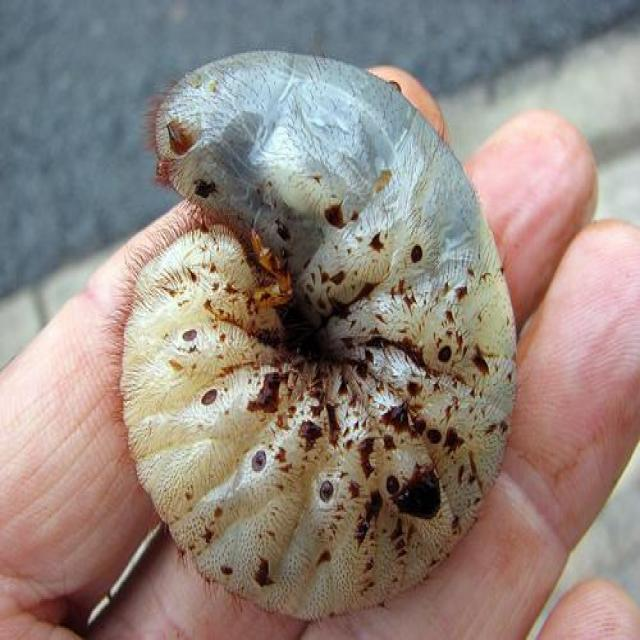Grub-Adult-: (100, 19, 509, 632)
